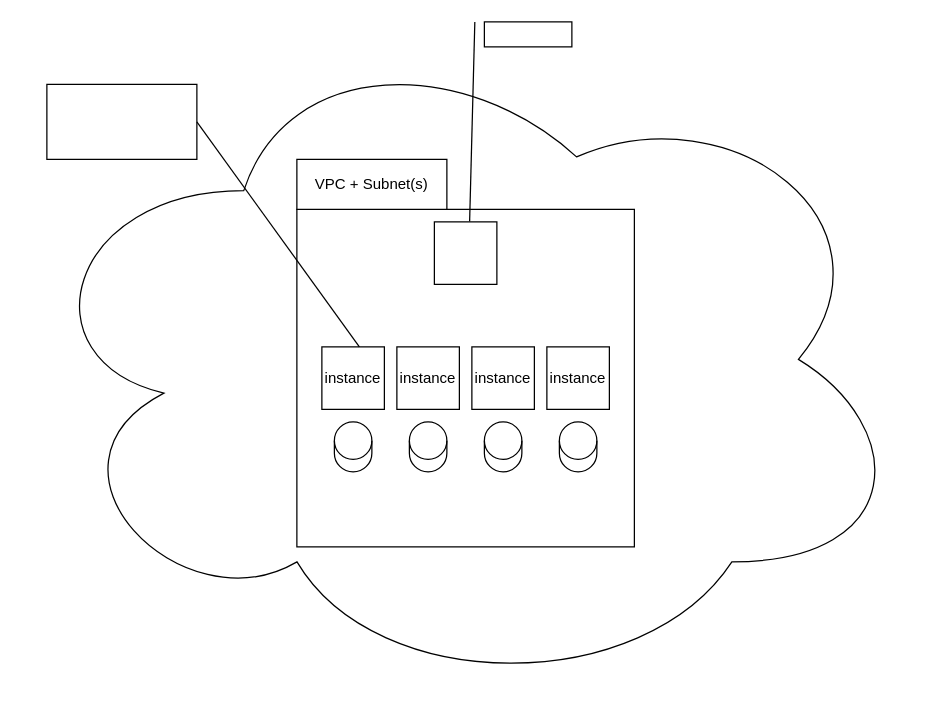
This 931x719 diagram has some shape labels left out. The box of each missing label's shape, as (x1, y1, x2, y2) in pixels:
instance bastion: (433, 221, 497, 284)
Navigateur Web: (46, 83, 197, 159)
SSH: (483, 21, 572, 47)
